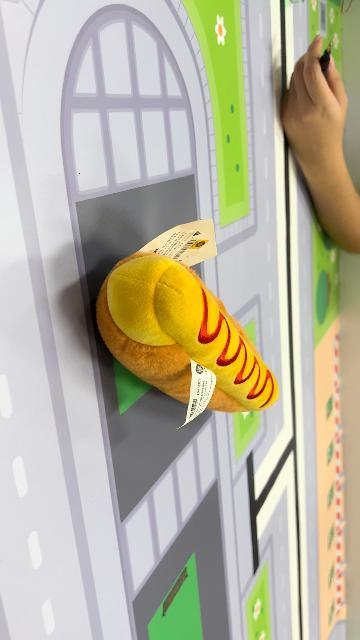hotdog: (96, 252, 280, 414)
